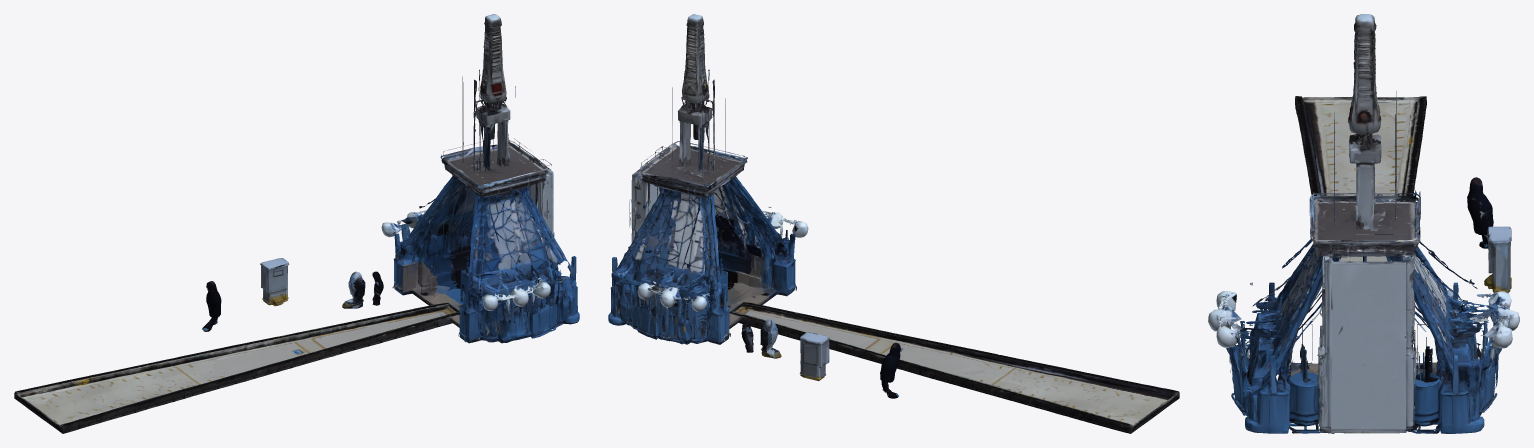
The model's file is construction-08.glb.
The picture shows the model from 3 angles, left to right: view 1: azimuth 30°, elevation 25°; view 2: azimuth 150°, elevation 25°; view 3: azimuth 270°, elevation 25°; orthographic projection. The views are drawn at different scales.
Bounding box in the file's own units: 1.35 × 0.7419 × 0.532.
Materials: 1 (1 with a texture image).
